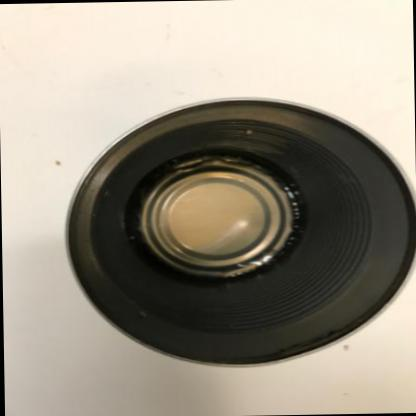Metal: (67, 100, 415, 366)
